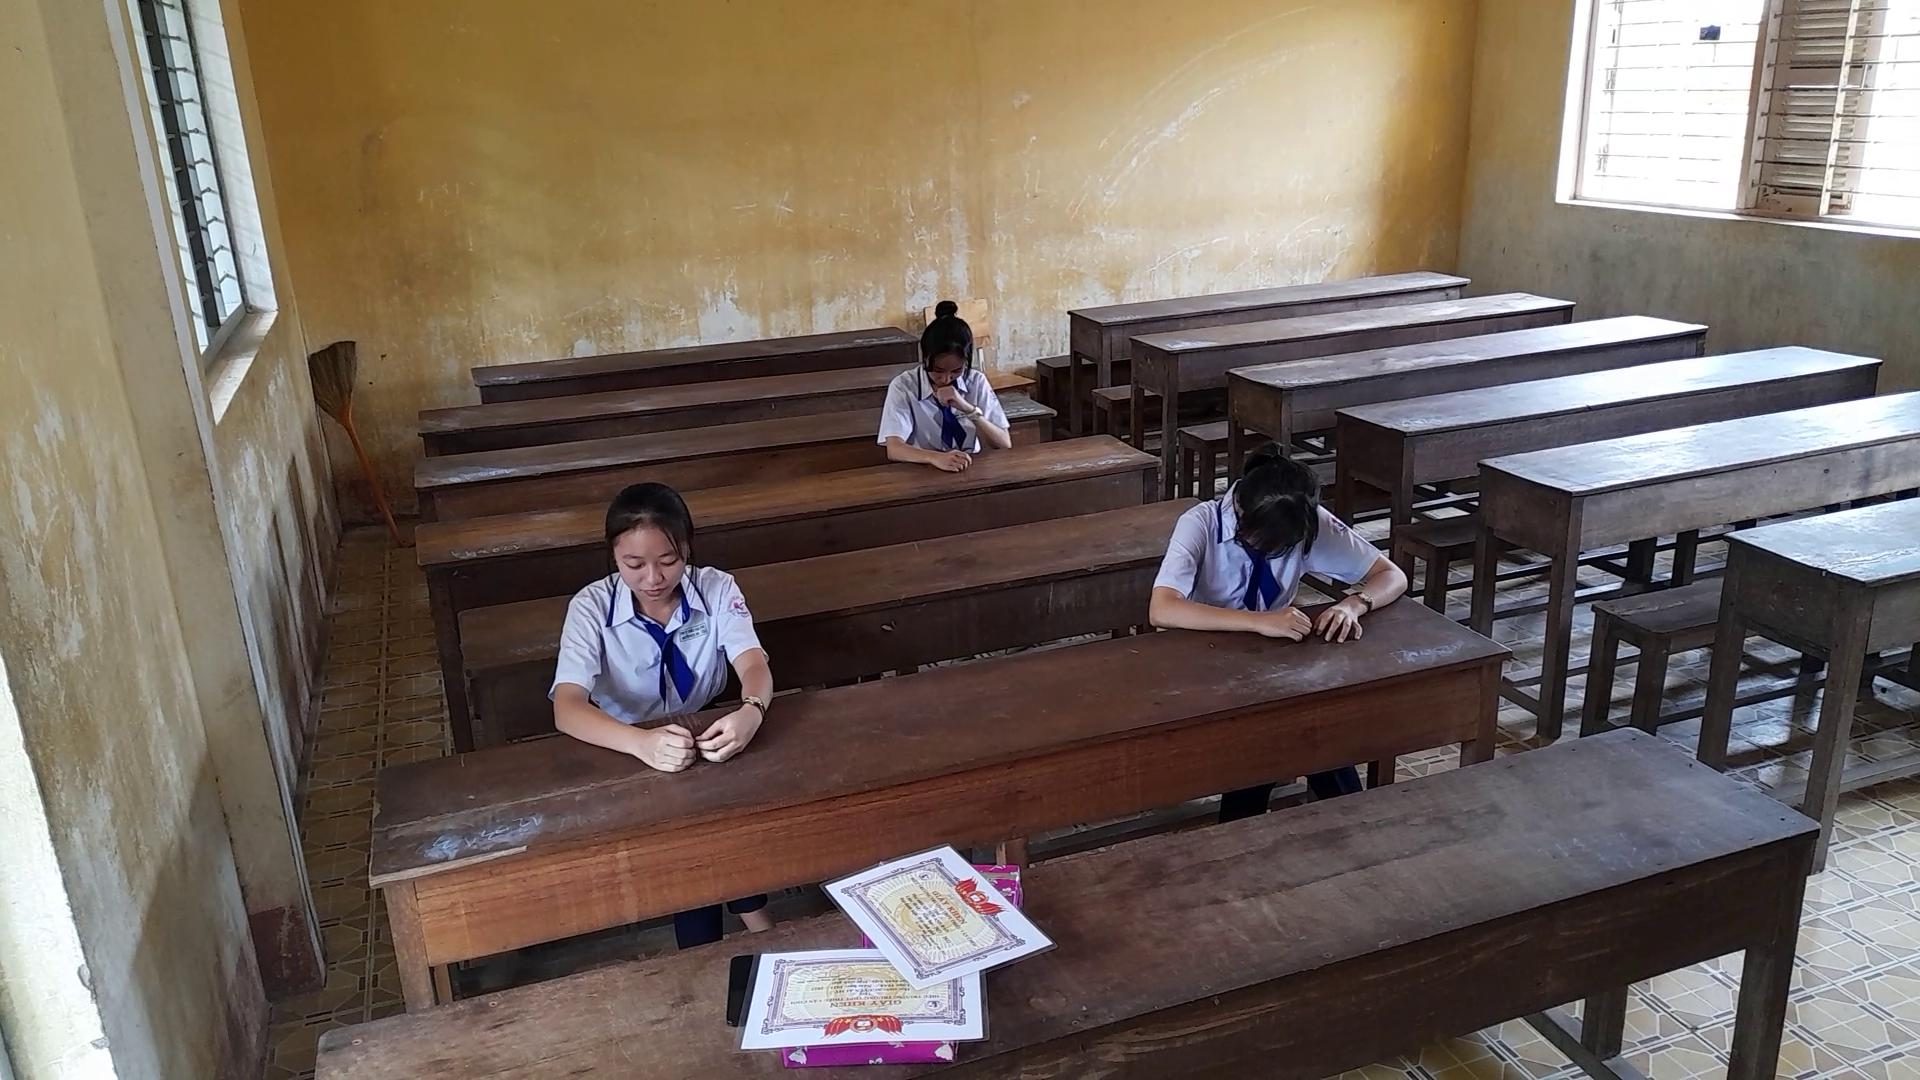Bend Over The Desk: (1207, 419, 1329, 566), (584, 472, 705, 618), (910, 280, 996, 386)
Wave: (910, 378, 1025, 455)
